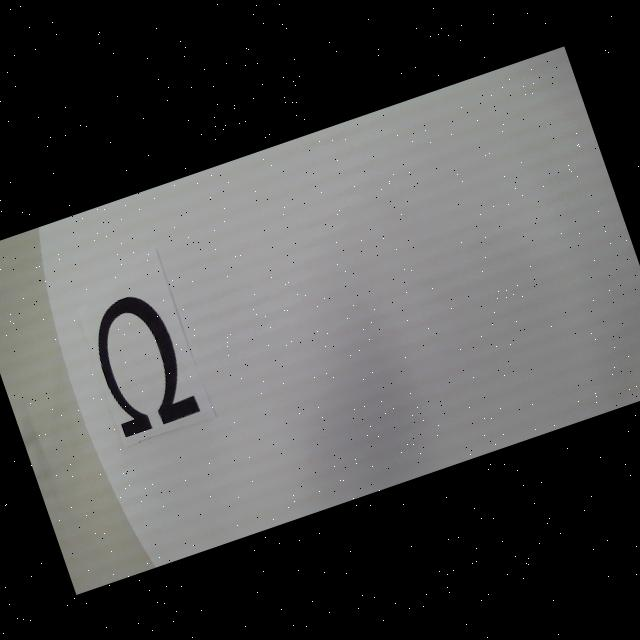OMEGA: (82, 287, 200, 438)
